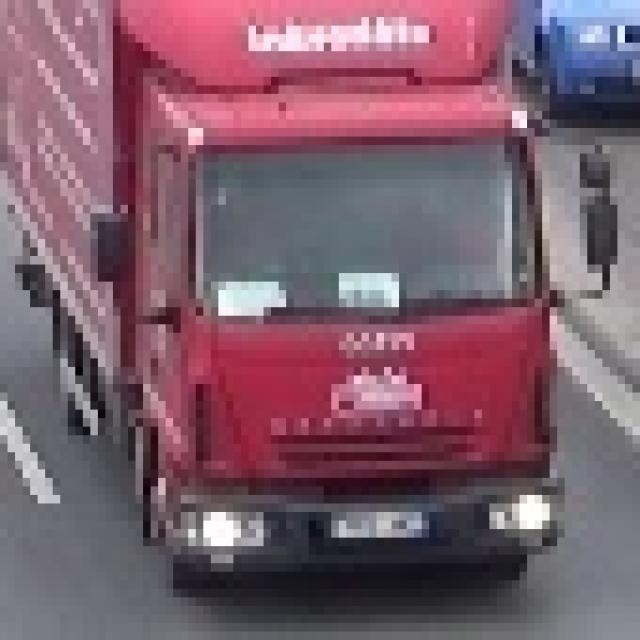Truck: (0, 0, 610, 589)
